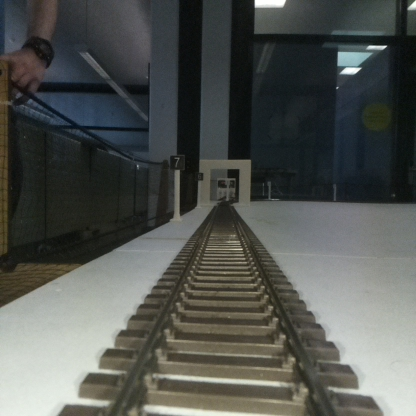black-info-7: (170, 154, 184, 219)
